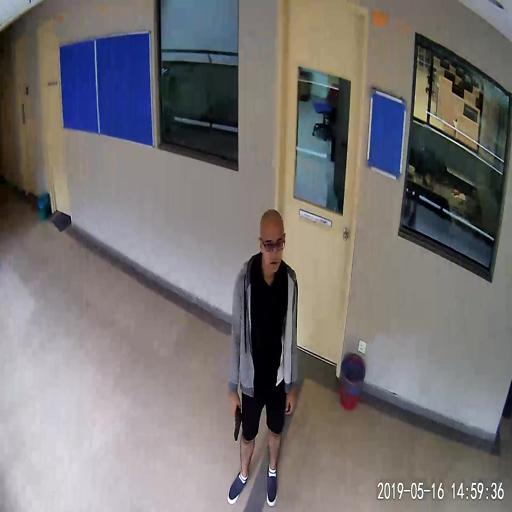pistol: (230, 401, 241, 440)
